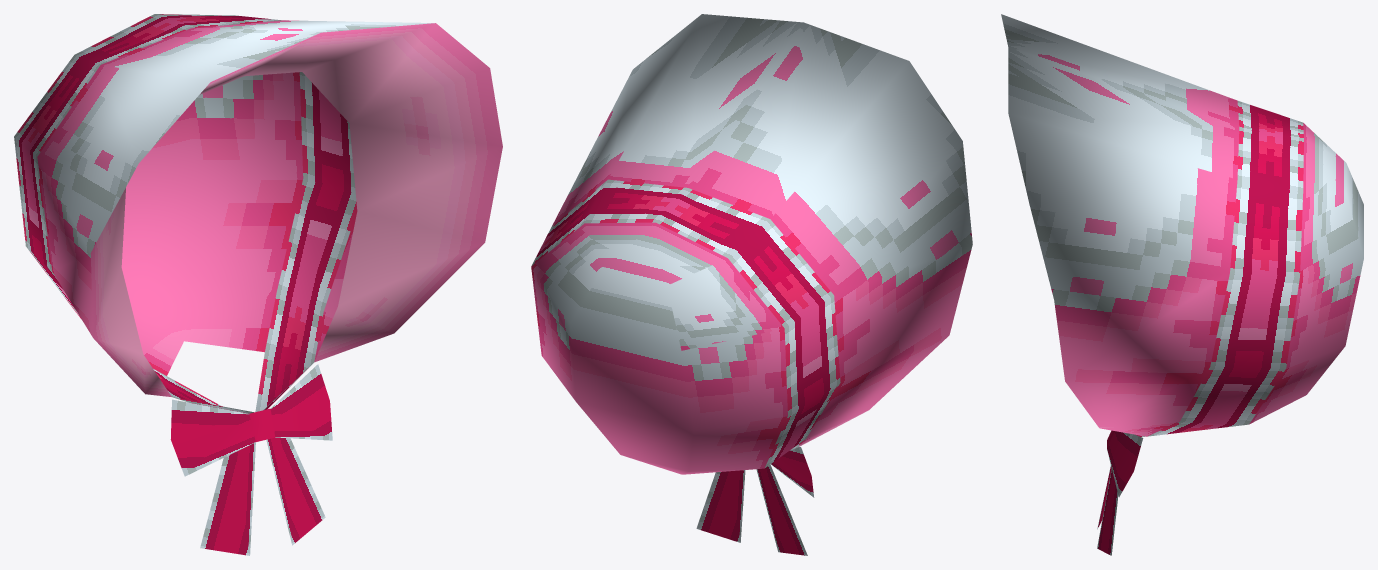
3 views of the same model, side by side, from view 1: azimuth 30°, elevation 25°; view 2: azimuth 150°, elevation 25°; view 3: azimuth 270°, elevation 25° (orthographic). The views are drawn at different scales.
Parts seen in each view (by area): view 1: code_head68; view 2: code_head68; view 3: code_head68.
Boxes of the visible parts, x1,y1,x2,y2 form: code_head68: (14, 14, 502, 555); code_head68: (531, 14, 972, 555); code_head68: (1001, 14, 1363, 555).
Bounding box in the file's own units: 0.8562 × 1.09 × 0.7261.
1 material, 1 textured.
